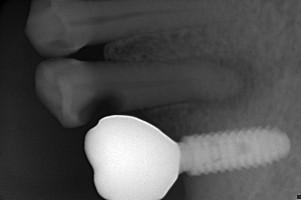Furcation Involvement: (173, 52, 273, 110)
